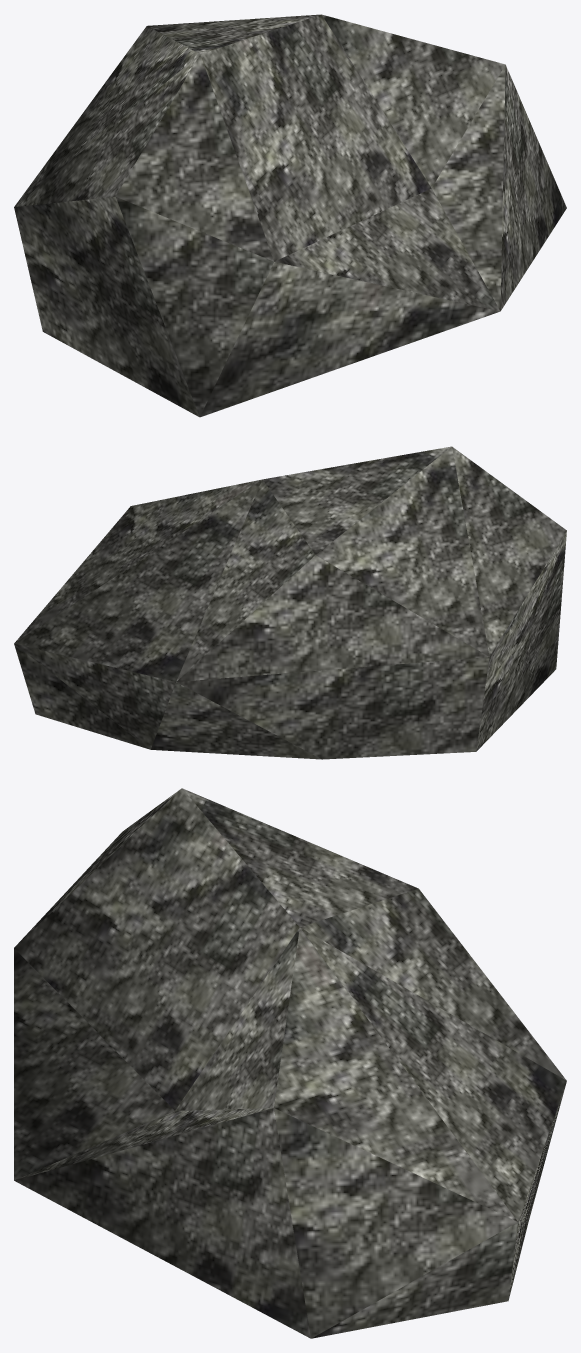
File: boulder.glb
The picture shows the model from 3 angles, top to bottom: view 1: azimuth 30°, elevation 25°; view 2: azimuth 150°, elevation 25°; view 3: azimuth 270°, elevation 25°; orthographic projection. The views are drawn at different scales.
Parts seen in each view (by area): view 1: boulder; view 2: boulder; view 3: boulder.
Part boxes in pixels (x1,y1,x2,y2): boulder: (14,14,566,417); boulder: (14,446,566,759); boulder: (14,788,566,1338).
Size of the model in its own units: 2.7 by 1.44 by 2.21.
1 material, 1 textured.
